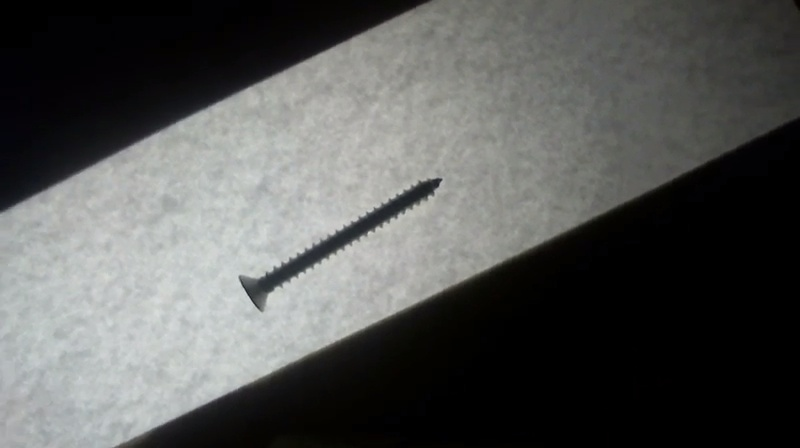S002: (234, 174, 446, 314)
